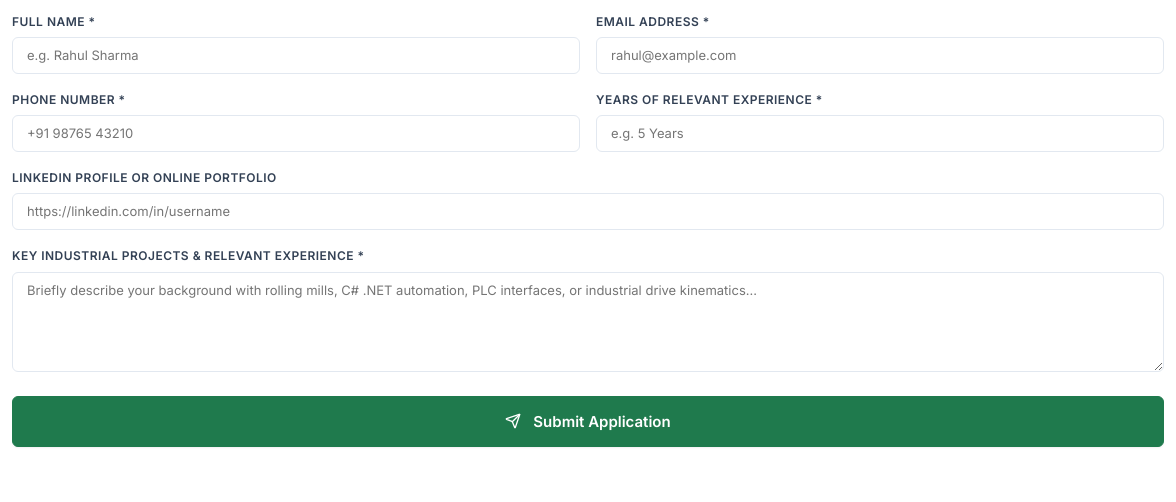
Test: JobApplicationForm › shows rate-limit error message on 429 response
Step 1. Type "Rahul Sharma" into the field labelled "Full Name *" → x=296, y=56, box [12, 37, 580, 74]
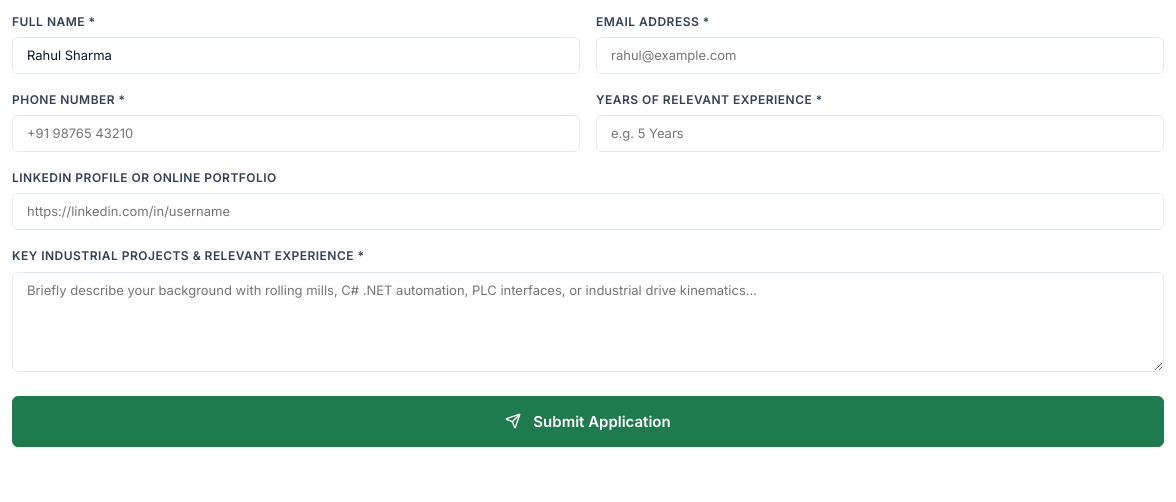
Step 2. Type "rahul@plant.com" into the field labelled "Email Address *" → x=880, y=56, box [596, 37, 1164, 74]
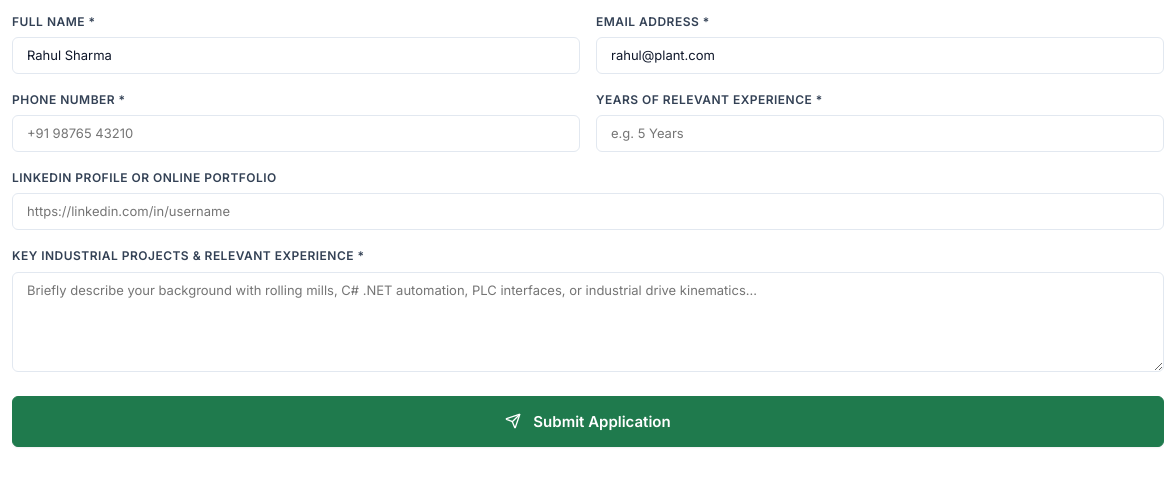
Step 3. Type "+91 9876543210" into the field labelled "Phone Number *" → x=296, y=134, box [12, 115, 580, 152]
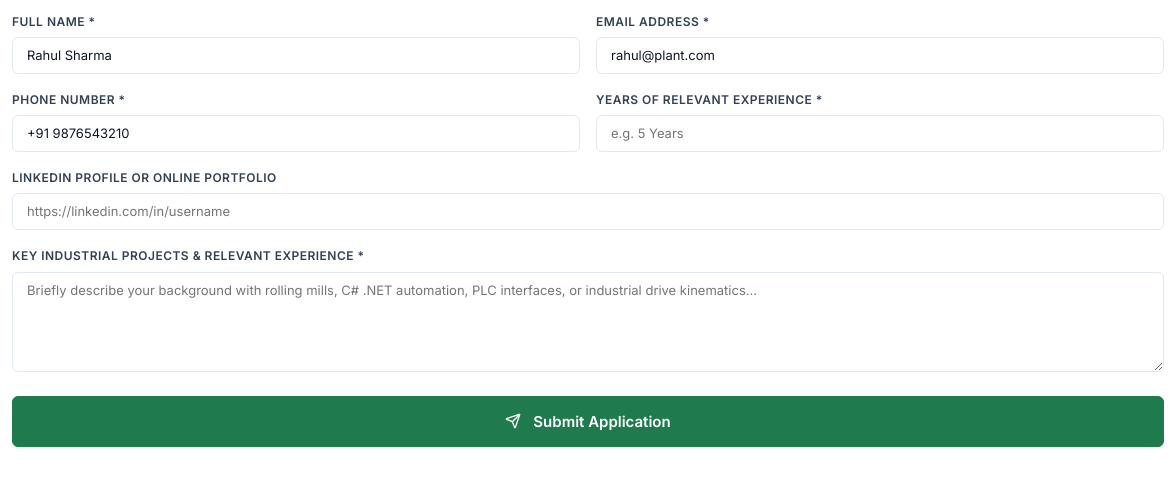
Step 4. Type "5 Years" into the field labelled "Years of Relevant Experience *" → x=880, y=134, box [596, 115, 1164, 152]
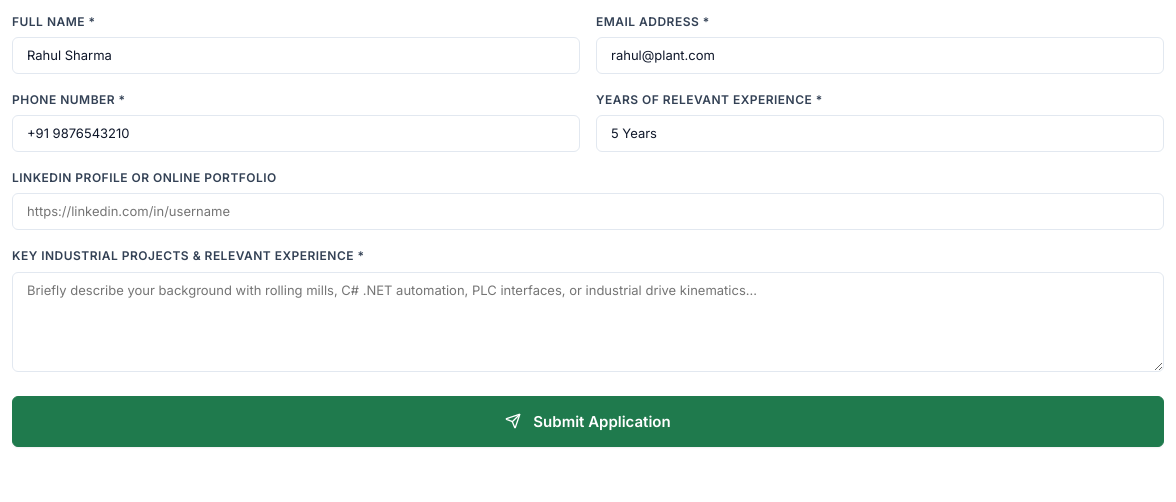
Step 5. Replace the text in the text box labelled "Key Industrial Projects & Relevant Experience *" with "Worked on 16-stand bar mill automation with Siemens S7-400 PLCs and C# SCADA." → x=588, y=322, box [12, 272, 1164, 372]
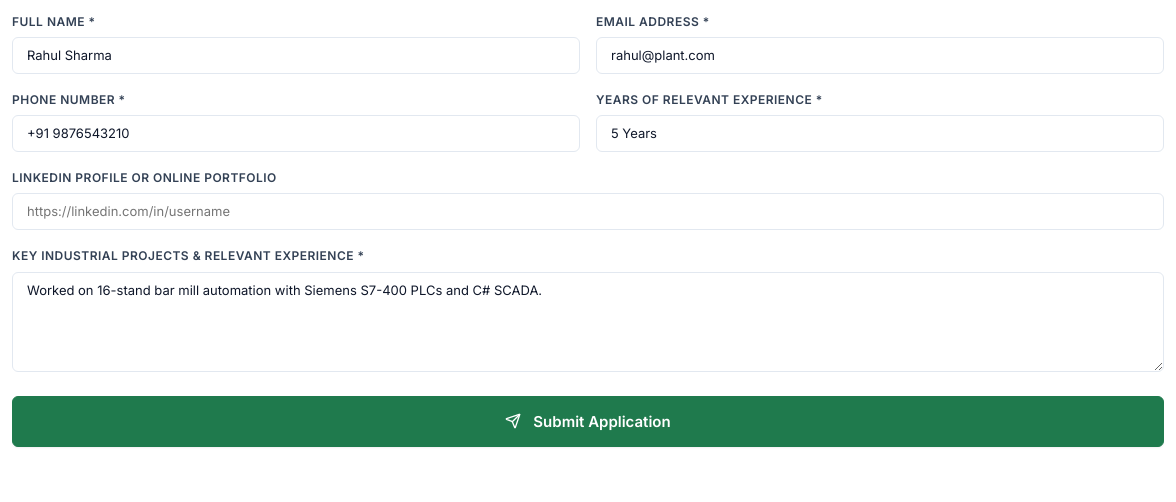
Step 6. Click the button "Submit Application" → x=588, y=421, box [12, 396, 1164, 447]
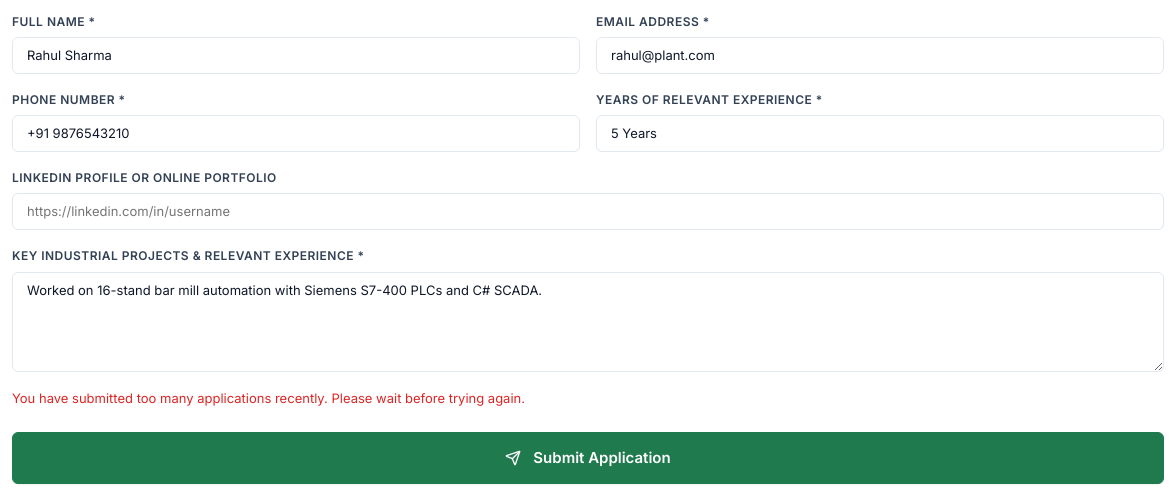
expect the text "too many applications" is shown: met, box [12, 390, 525, 406]
